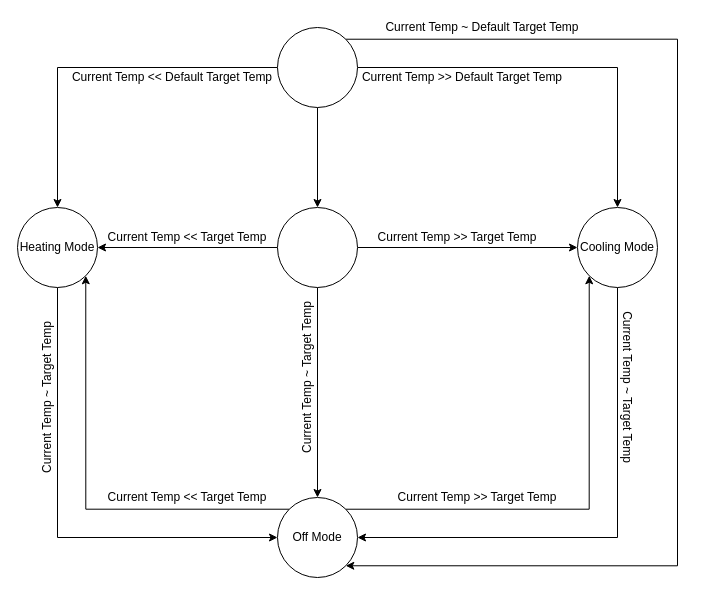
The diagram is 703 pixels wide and 595 high, and some of its shapes have lost their labels. Here are the shapes that lost their labels. From the top down, the centre of each, then its label:
point (317, 67): Start
point (317, 247): Change Target Temperature
